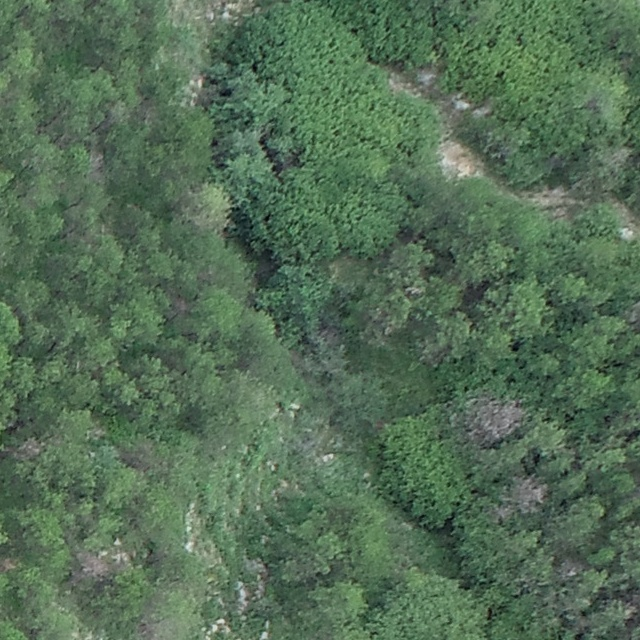unhealthy: (467, 395, 524, 445), (510, 472, 549, 512), (74, 549, 121, 579), (13, 436, 46, 460), (85, 147, 106, 184), (555, 555, 585, 580), (166, 291, 193, 317), (489, 502, 515, 522), (0, 555, 18, 573)
